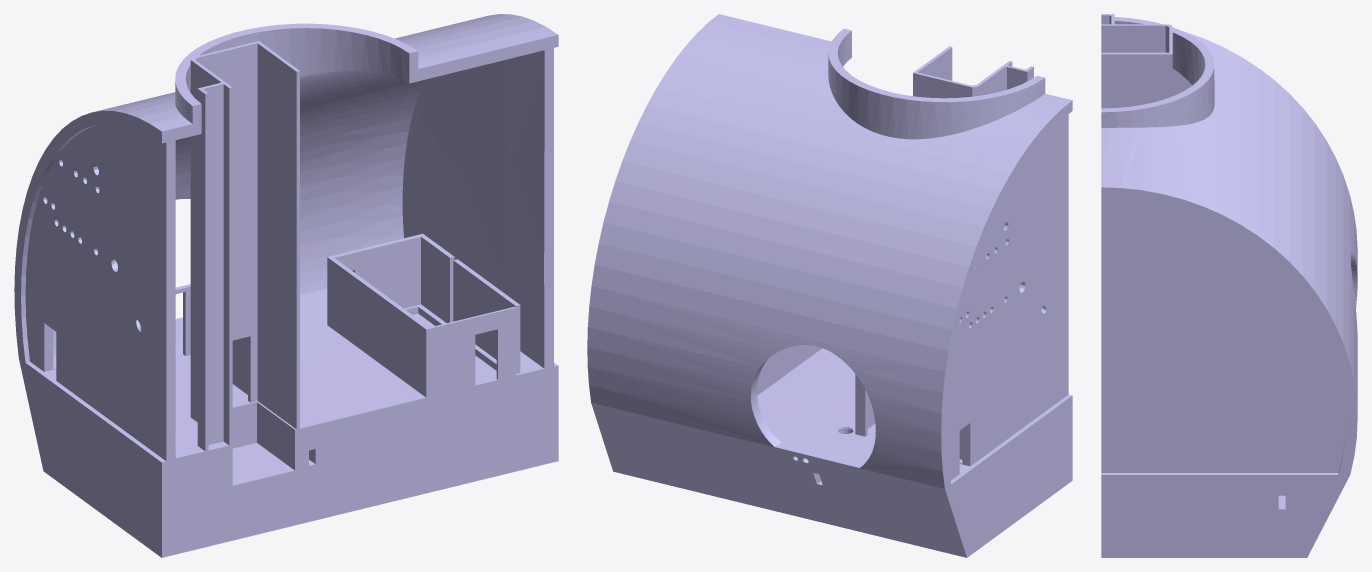
Rendered from US15-cut1.glb.
3 renders of one model, left to right at view 1: azimuth 30°, elevation 25°; view 2: azimuth 150°, elevation 25°; view 3: azimuth 270°, elevation 25°, orthographic. The views are drawn at different scales.
Parts seen in each view (by area): view 1: null; view 2: null; view 3: null.
Part boxes in pixels (bbox=[...]): null: bbox=[14, 14, 558, 557]; null: bbox=[587, 14, 1072, 557]; null: bbox=[1101, 14, 1357, 557].
Size of the model in its own units: 17.4 by 19 by 11.2.
